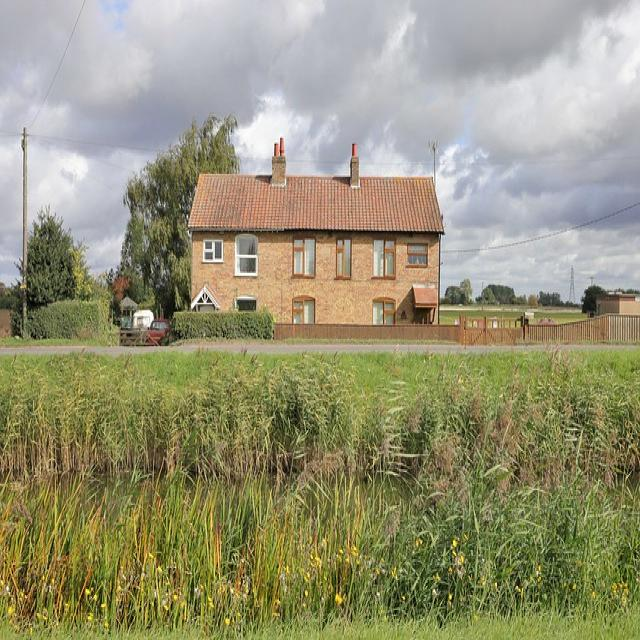Normal_building: (186, 140, 446, 346)
